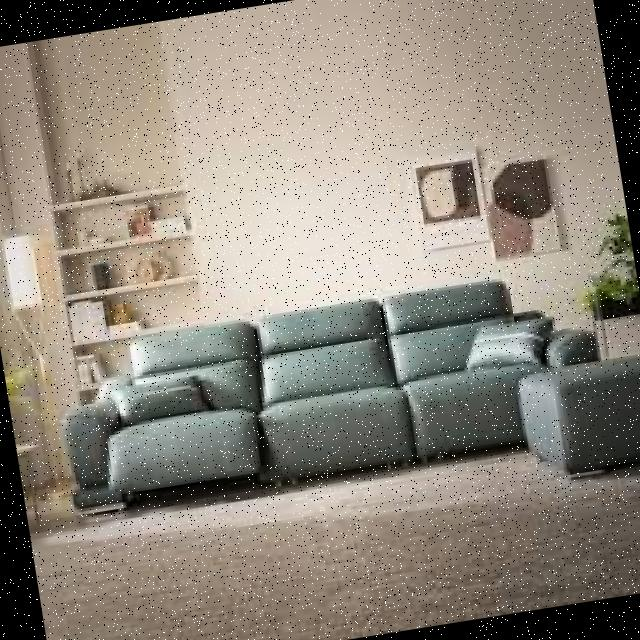Sofa: (31, 231, 640, 582)
